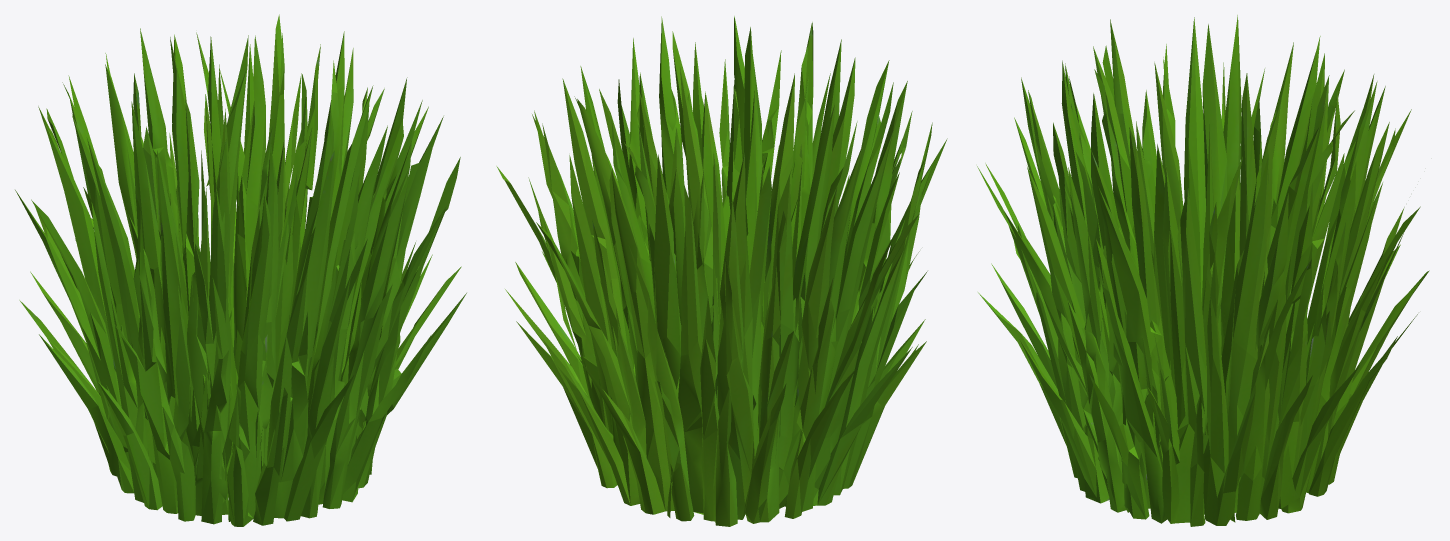
File: jemo-grass.glb
The picture shows the model from 3 angles, left to right: view 1: azimuth 30°, elevation 25°; view 2: azimuth 150°, elevation 25°; view 3: azimuth 270°, elevation 25°; orthographic projection.
Parts seen in each view (by area): view 1: mesh_node; view 2: mesh_node; view 3: mesh_node.
Part boxes in pixels (box(x1,y1,x2,y2)): mesh_node: box(15, 14, 466, 526); mesh_node: box(496, 16, 947, 526); mesh_node: box(977, 15, 1429, 526).
Bounding box in the file's own units: 1.84 × 1.89 × 1.86.
Materials: 1 (1 with a texture image).
